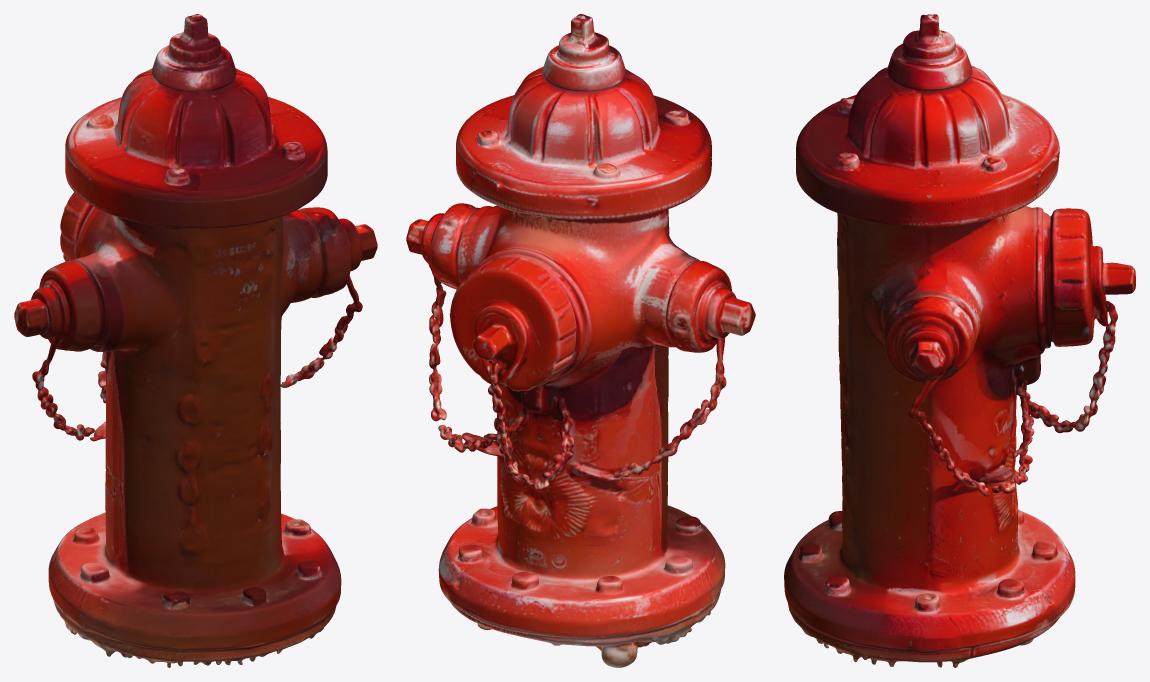
The model's file is fire hydrant 3d model.glb.
3 views of the same model, side by side, from view 1: azimuth 30°, elevation 25°; view 2: azimuth 150°, elevation 25°; view 3: azimuth 270°, elevation 25° (orthographic). The views are drawn at different scales.
Visible parts, largest first — view 1: tripo_node_ba9b7069-e2f7-4faa-8c40-48a5d02b090a; view 2: tripo_node_ba9b7069-e2f7-4faa-8c40-48a5d02b090a; view 3: tripo_node_ba9b7069-e2f7-4faa-8c40-48a5d02b090a.
Part boxes in pixels (x1,y1,x2,y2): tripo_node_ba9b7069-e2f7-4faa-8c40-48a5d02b090a: (14,14,377,667); tripo_node_ba9b7069-e2f7-4faa-8c40-48a5d02b090a: (406,14,755,667); tripo_node_ba9b7069-e2f7-4faa-8c40-48a5d02b090a: (784,14,1135,667).
Size of the model in its own units: 0.5959 by 1 by 0.5167.
Materials: 1 (1 with a texture image).
